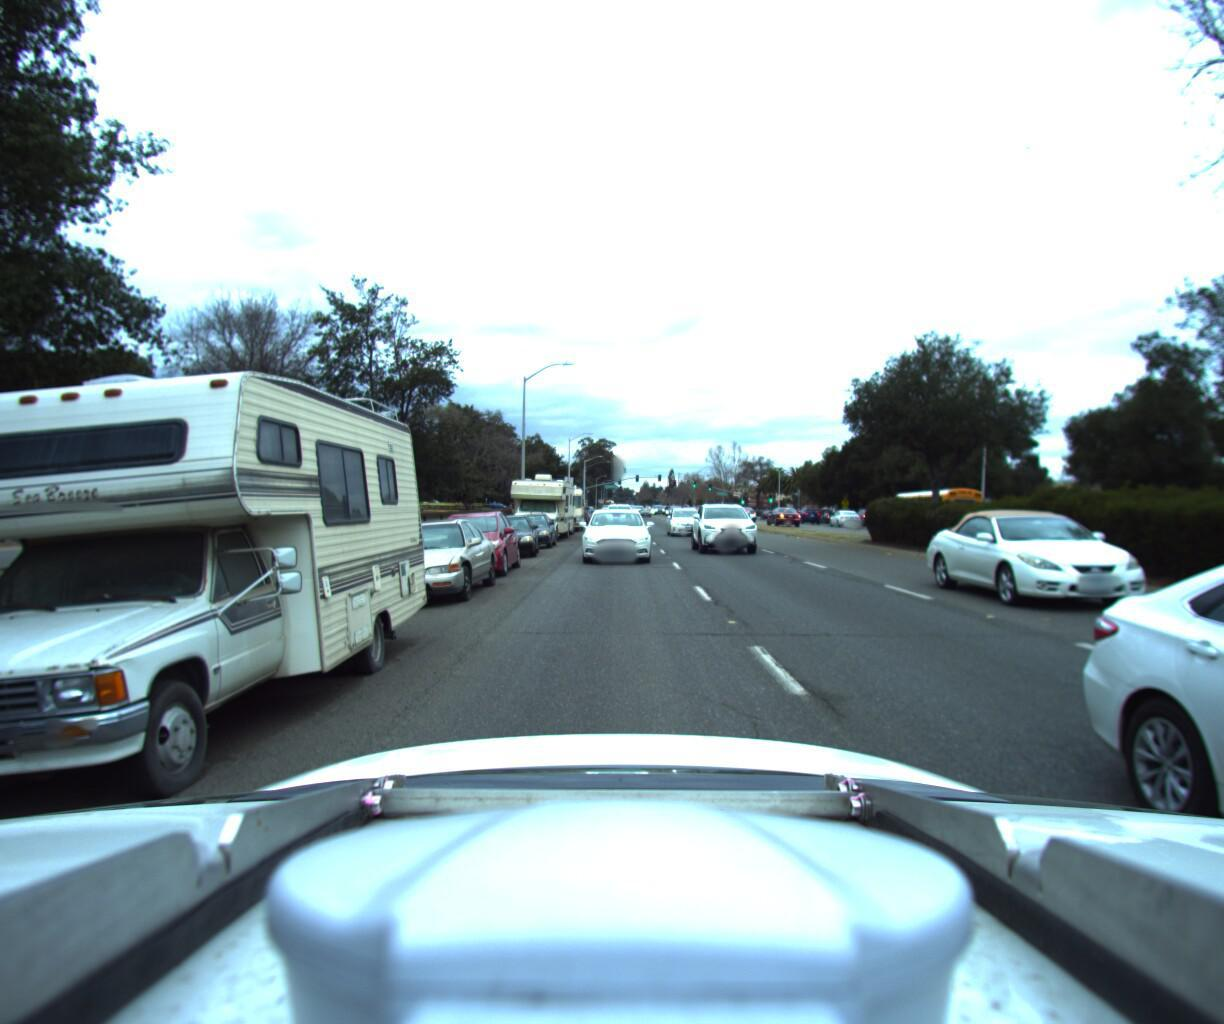bus: (889, 479, 989, 529)
car: (944, 503, 1224, 635), (342, 510, 500, 614), (415, 502, 523, 580), (576, 502, 649, 565), (691, 500, 770, 555), (476, 506, 539, 558), (502, 505, 557, 546), (663, 504, 706, 537), (762, 498, 803, 519), (602, 498, 633, 524), (821, 501, 858, 520), (791, 499, 819, 517)
other_vehicle: (501, 466, 575, 537), (540, 475, 584, 526)
